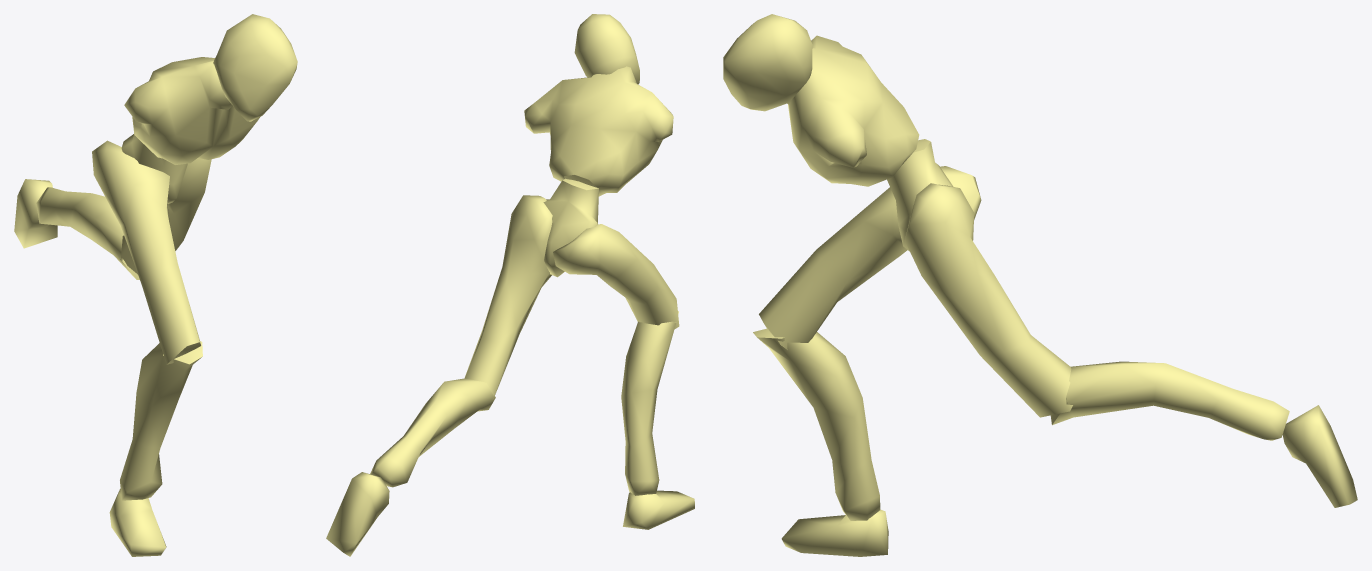
Rendered from filth0.obj.
The picture shows the model from 3 angles, left to right: view 1: azimuth 30°, elevation 25°; view 2: azimuth 150°, elevation 25°; view 3: azimuth 270°, elevation 25°; orthographic projection. The views are drawn at different scales.
Visible parts, largest first — view 1: Melee_Husk; view 2: Melee_Husk; view 3: Melee_Husk.
Part boxes in pixels (x1=…): Melee_Husk: x1=14, y1=14, x2=297, y2=556; Melee_Husk: x1=326, y1=14, x2=694, y2=556; Melee_Husk: x1=723, y1=14, x2=1357, y2=556.
Size of the model in its own units: 22.17 by 65.48 by 65.13.
